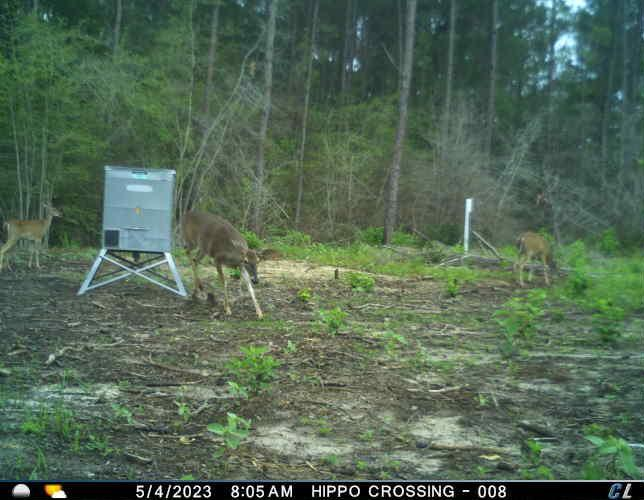Deer: (180, 205, 269, 319), (0, 200, 64, 270), (511, 229, 559, 288)
